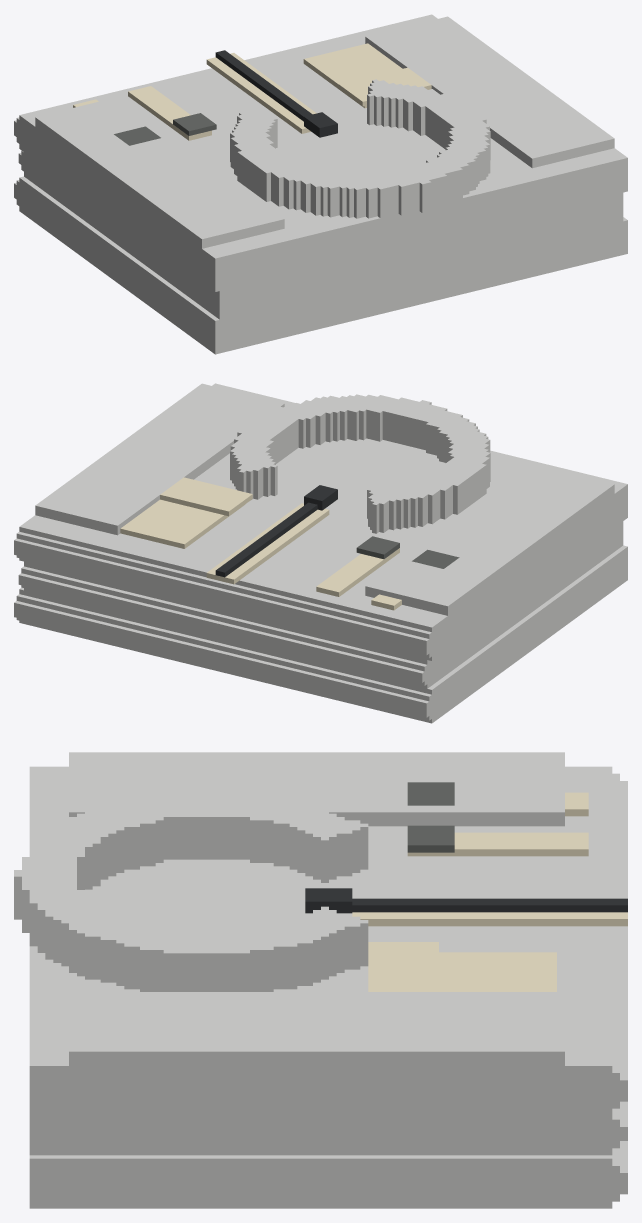
The model's file is beekeeping_suit.glb.
The picture shows the model from 3 angles, top to bottom: view 1: azimuth 30°, elevation 25°; view 2: azimuth 150°, elevation 25°; view 3: azimuth 270°, elevation 25°; orthographic projection. The views are drawn at different scales.
Parts seen in each view (by area): view 1: beekeeping_suit:compound; view 2: beekeeping_suit:compound; view 3: beekeeping_suit:compound.
Boxes of the visible parts, x1=… form: beekeeping_suit:compound: x1=14, y1=14, x2=627, y2=354; beekeeping_suit:compound: x1=14, y1=383, x2=627, y2=723; beekeeping_suit:compound: x1=14, y1=752, x2=627, y2=1208.
Size of the model in its own units: 0.36 by 0.104 by 0.312.
